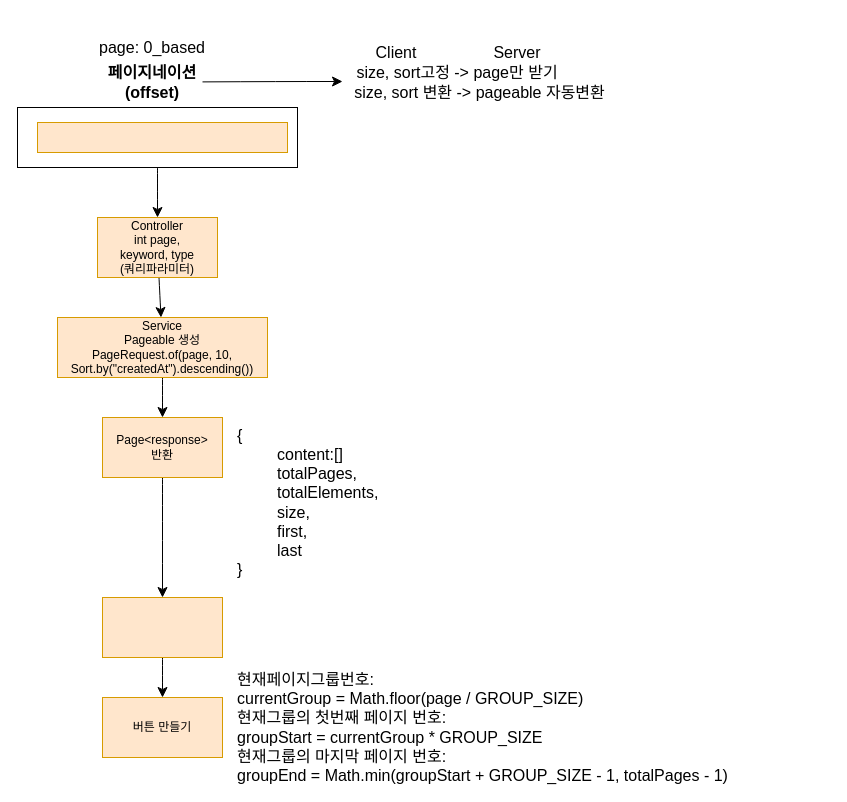
The diagram is 847 pixels wide and 802 high, and some of its shapes have lost their labels. The shapes that lost their labels are listed below. From the top down, each one's centre as x and y in pixels, then its label:
[162,137]: GET /api/posts/search?keyword=스프링&type=title&page=0
[162,627]: 200응답 Page<response>
